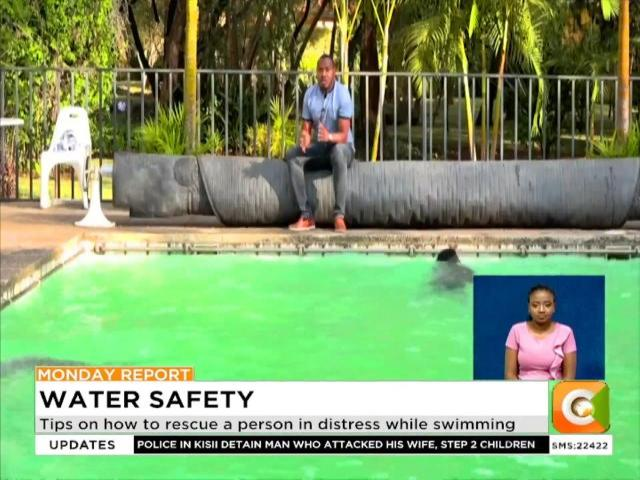out of water: (294, 44, 372, 236)
swimming: (424, 243, 477, 296)
